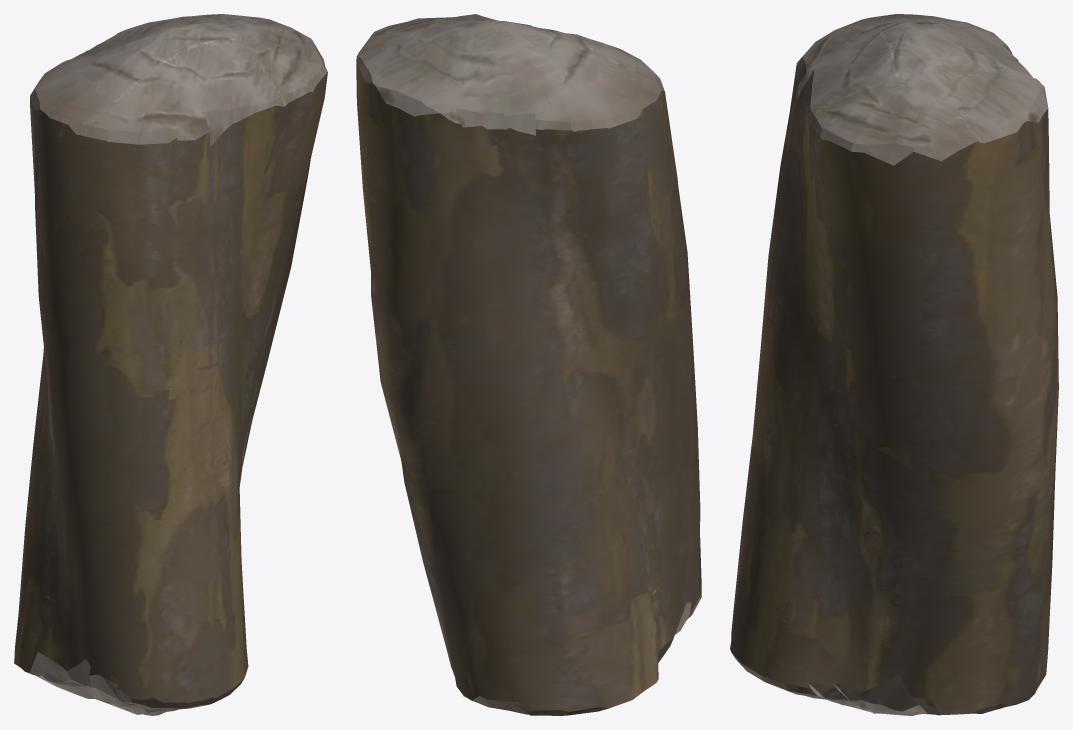
3 views of the same model, side by side, from view 1: azimuth 30°, elevation 25°; view 2: azimuth 150°, elevation 25°; view 3: azimuth 270°, elevation 25° (orthographic). The views are drawn at different scales.
Visible parts, largest first — view 1: SM_Yew_01_quarter_03_LOD0; view 2: SM_Yew_01_quarter_03_LOD0; view 3: SM_Yew_01_quarter_03_LOD0.
Part boxes in pixels (x1=…): SM_Yew_01_quarter_03_LOD0: x1=14, y1=14, x2=327, y2=715; SM_Yew_01_quarter_03_LOD0: x1=356, y1=14, x2=701, y2=715; SM_Yew_01_quarter_03_LOD0: x1=730, y1=14, x2=1058, y2=715.
Bounding box in the file's own units: 1.04 × 2.29 × 0.9587.
1 material, 1 textured.
